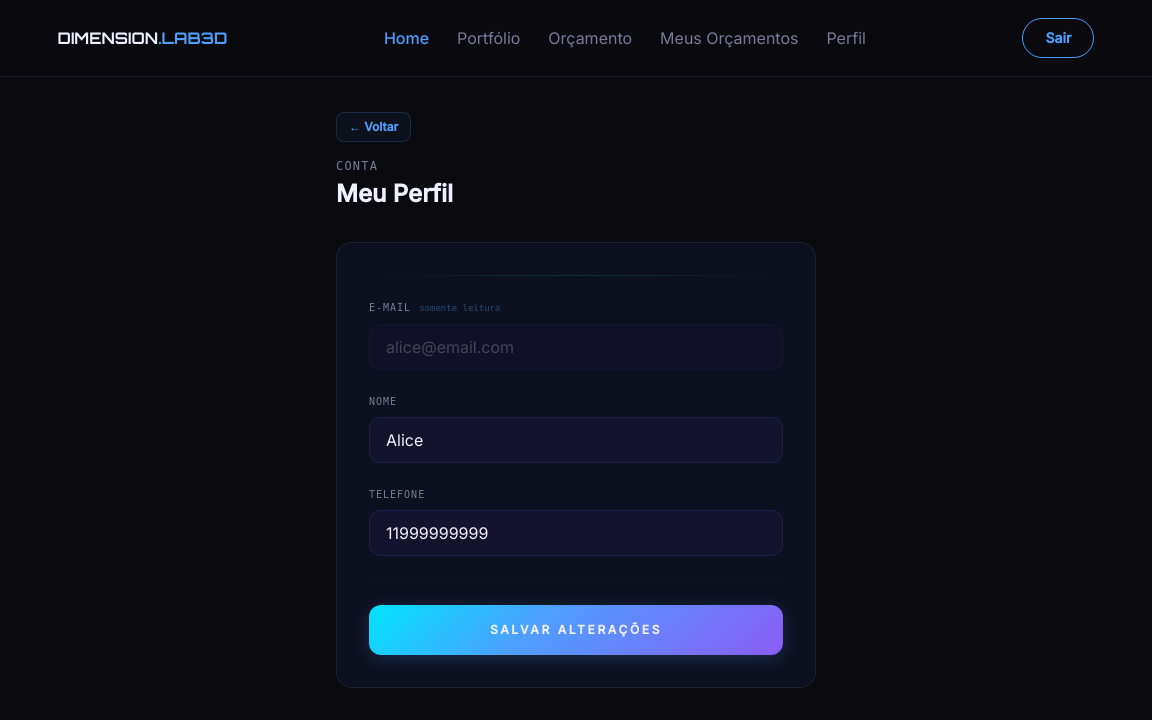
Test: Profile page › shows error message when save fails
This screenshot has width=1152, height=720.
Click the button "Salvar alterações": point(576, 630) [369, 604, 783, 654]
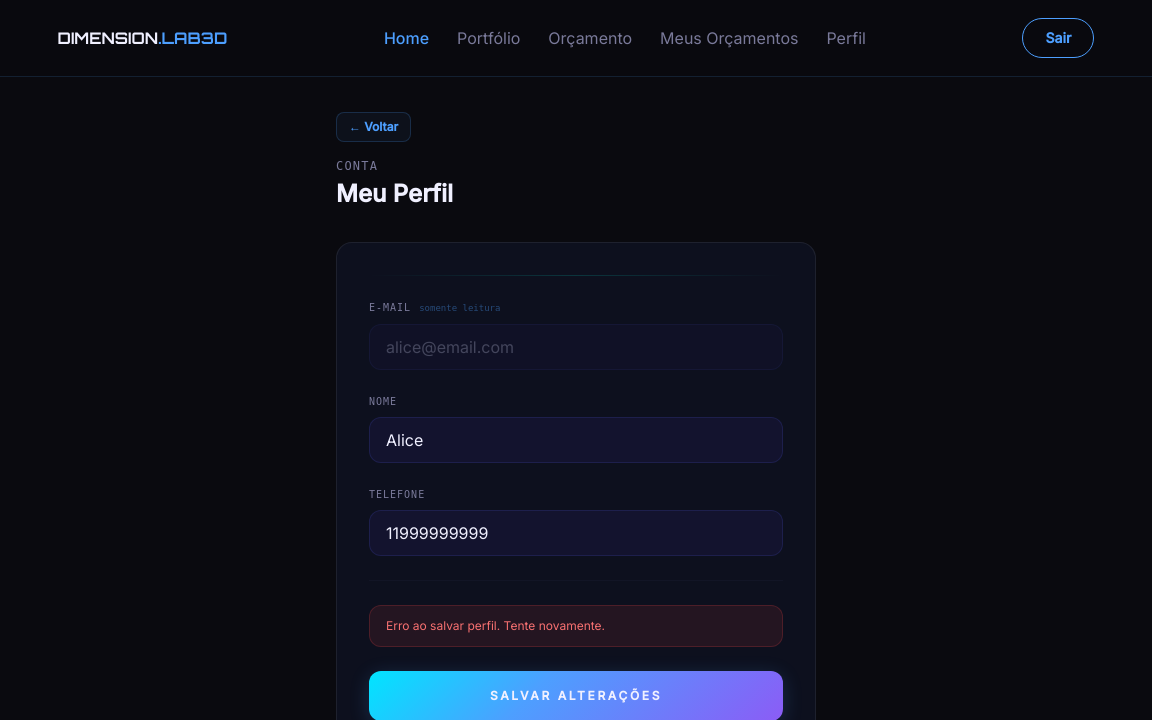
Expected: the text "Erro ao salvar perfil. Tente novamente." is shown, [369, 604, 783, 646]
